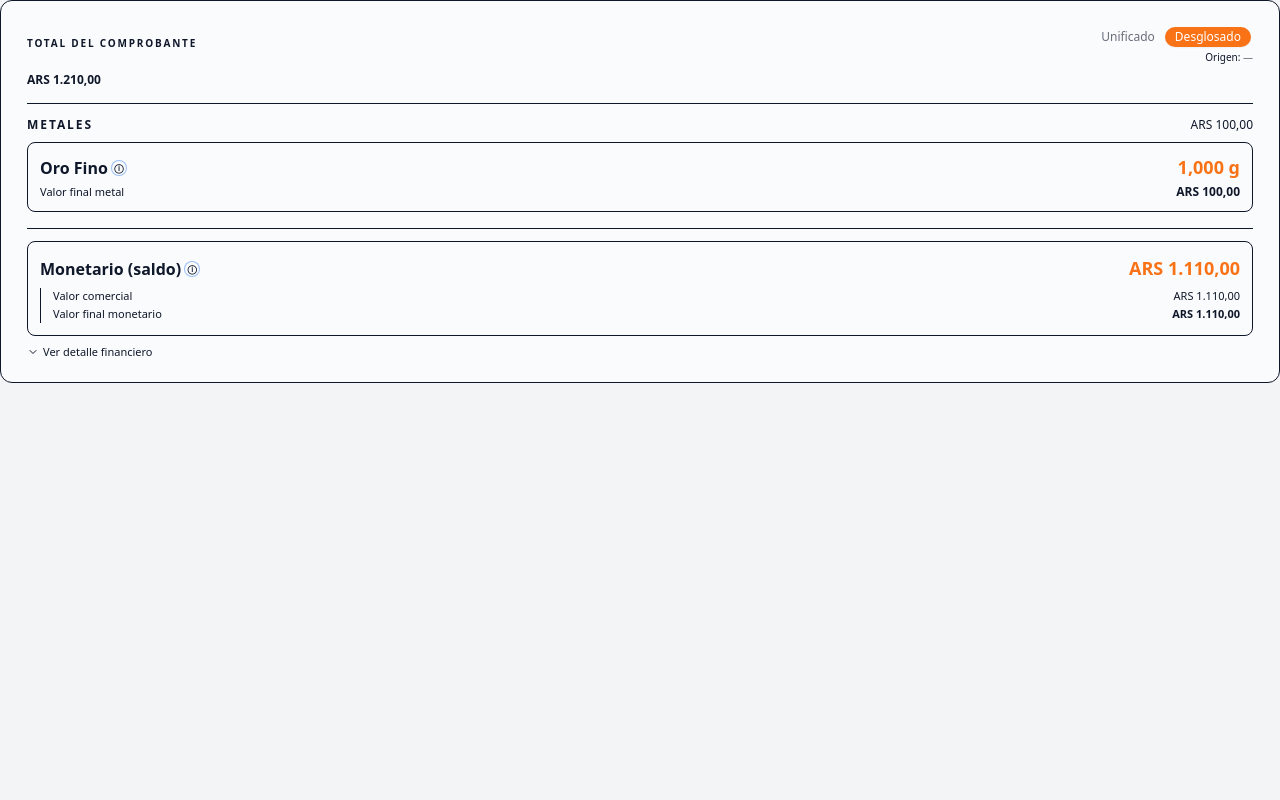
Test case: Detalle financiero PLANO en BREAKDOWN (paridad visual con unificado) › BREAKDOWN: detalle plano (sin headers de sección ni base imponible) pero CONSERVA la Composición (Hechura)
This screenshot has width=1280, height=800.
Click the button with test id "total-card-composicion-toggle". click: (90, 352)
box: [27,344,152,360]
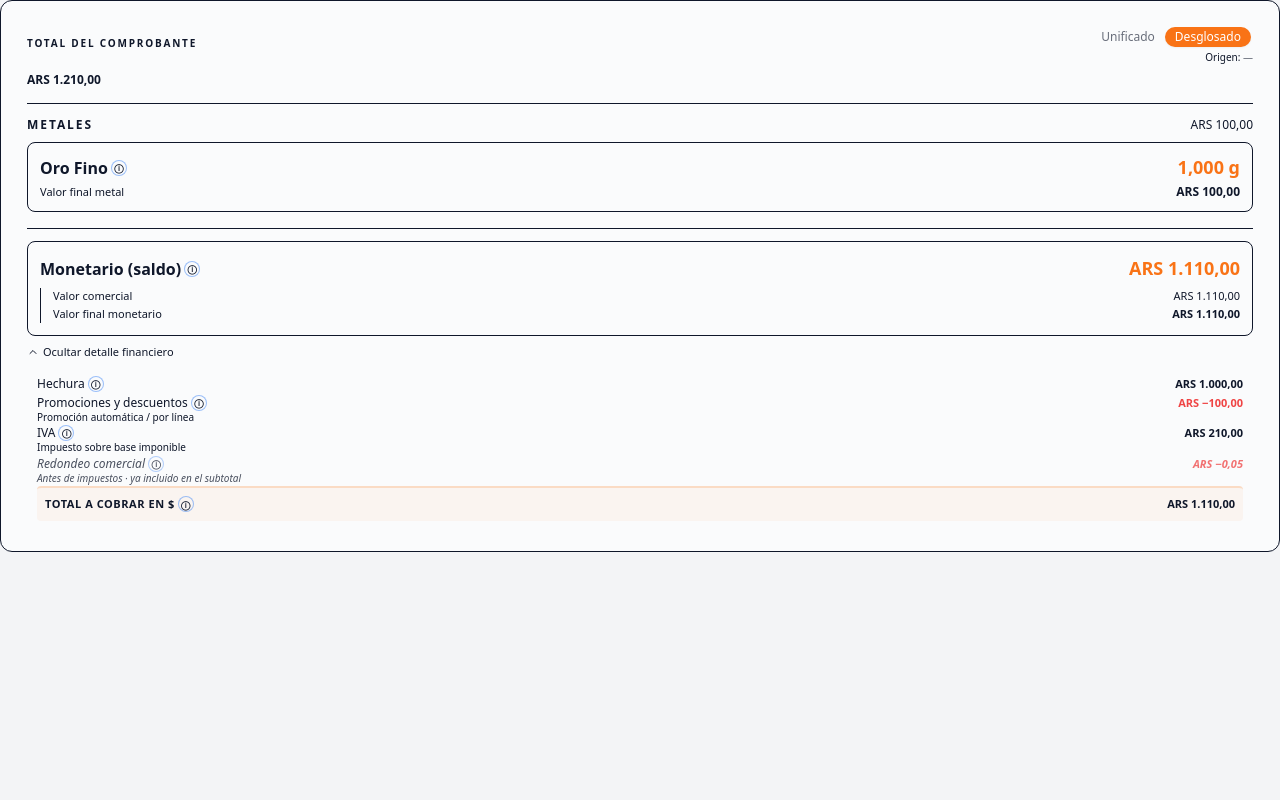
Expected: the list item with test id "total-card-component-HECHURA" is shown, [37,376,1243,392]
